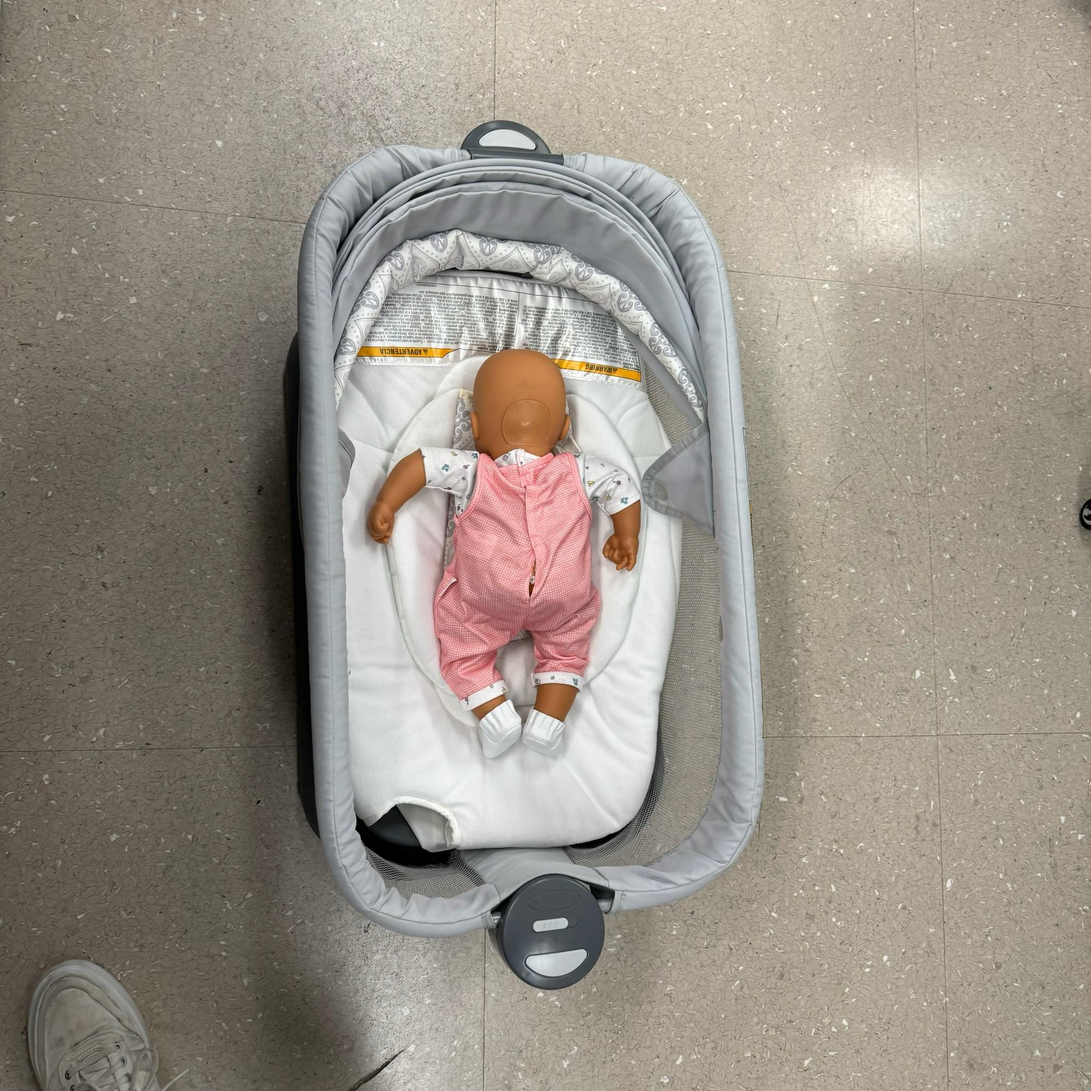baby: (365, 344, 649, 767)
